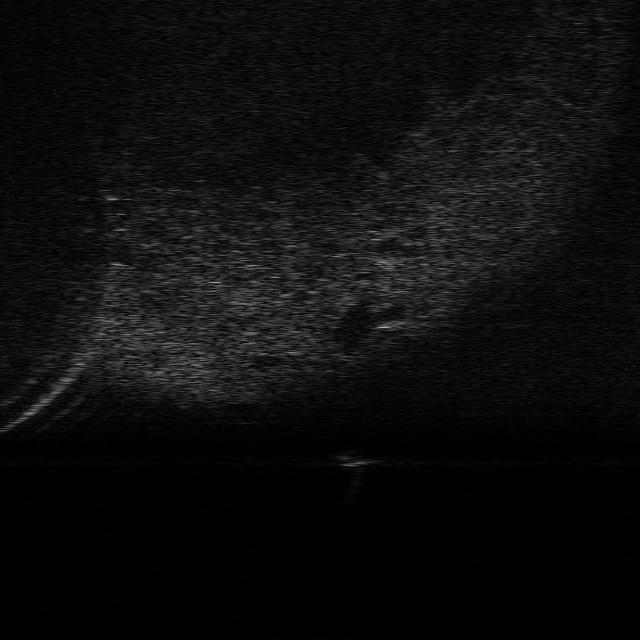cube: (332, 449, 383, 469)
